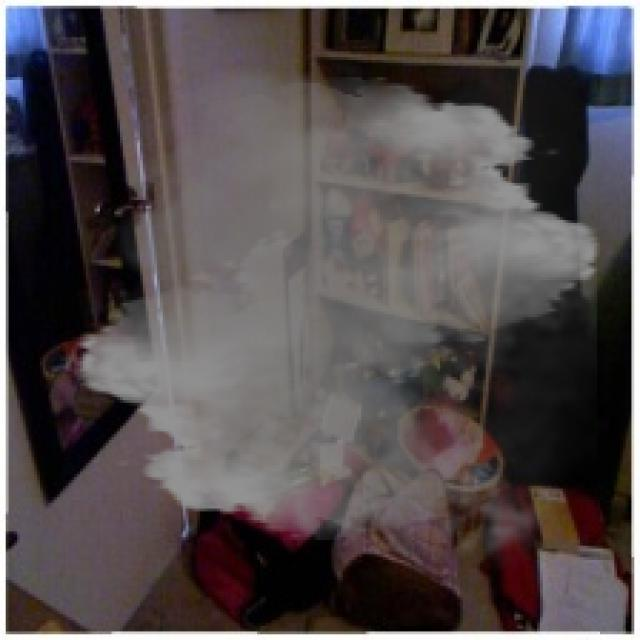smoke: (60, 54, 617, 574)
